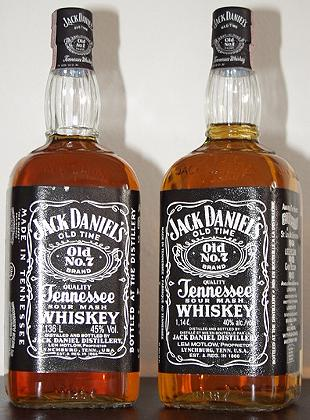Jack Daniel: (153, 4, 309, 416), (3, 2, 148, 416)
